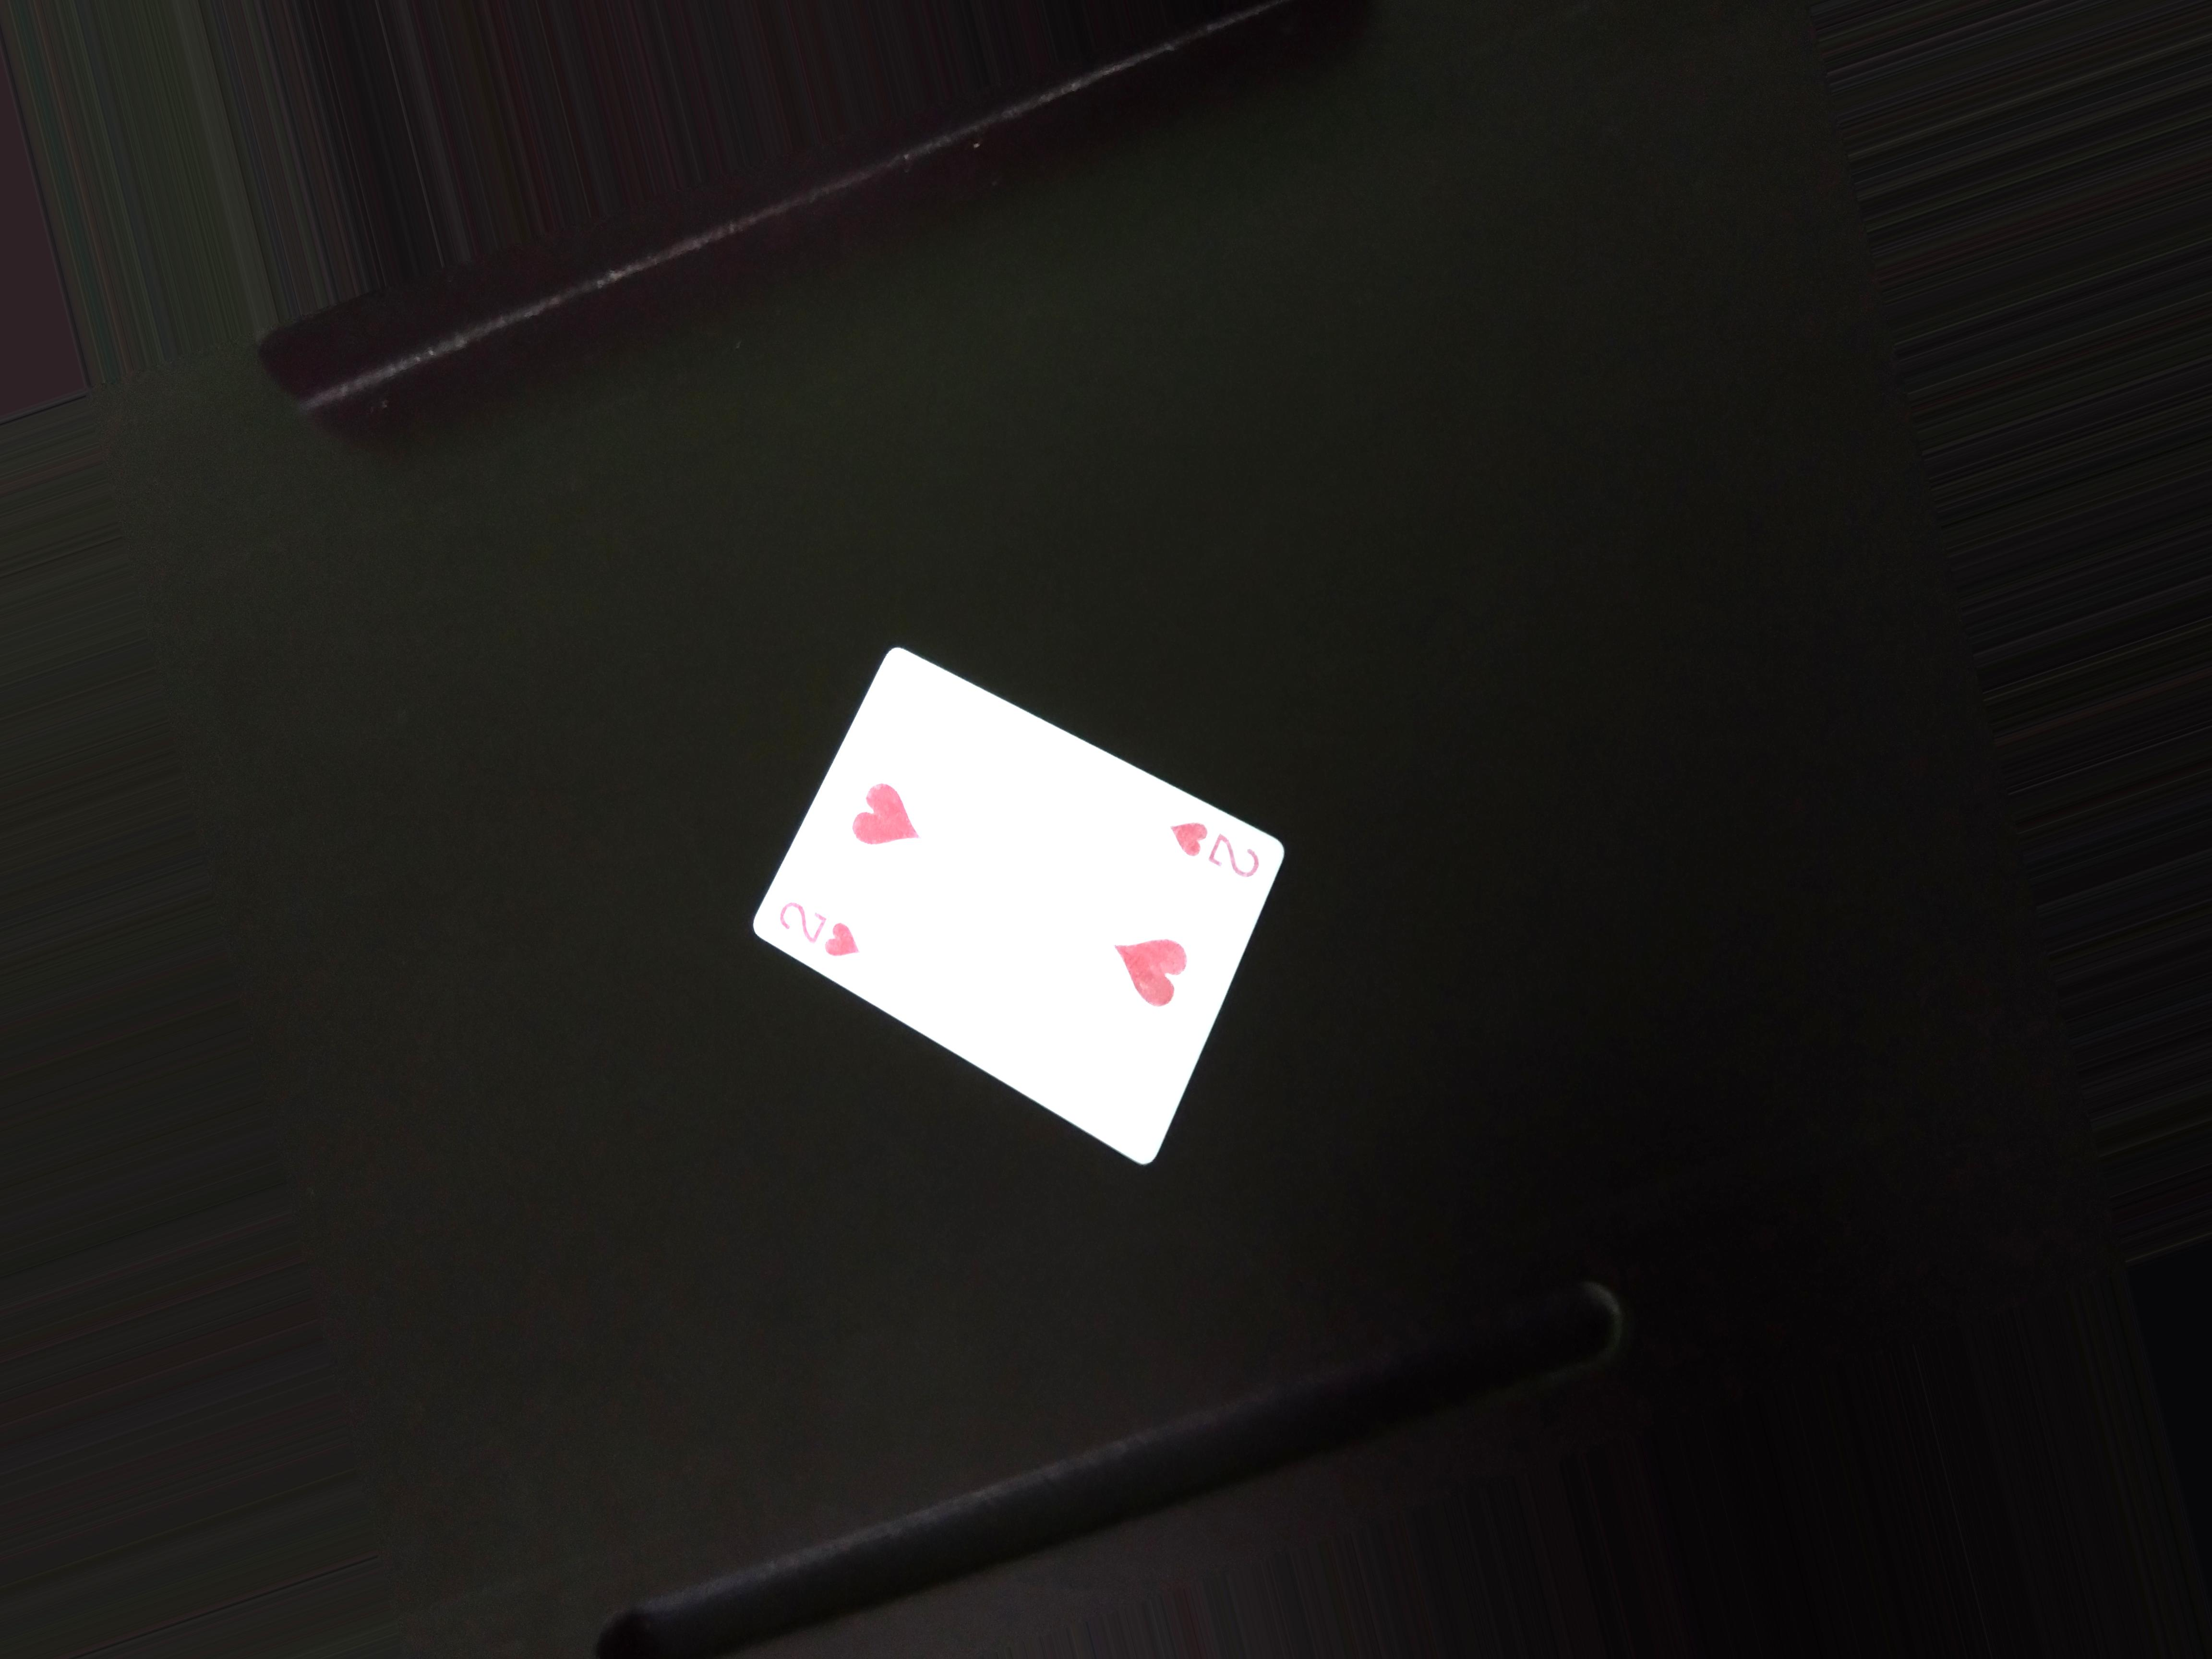2H: (1155, 809, 1280, 889)
